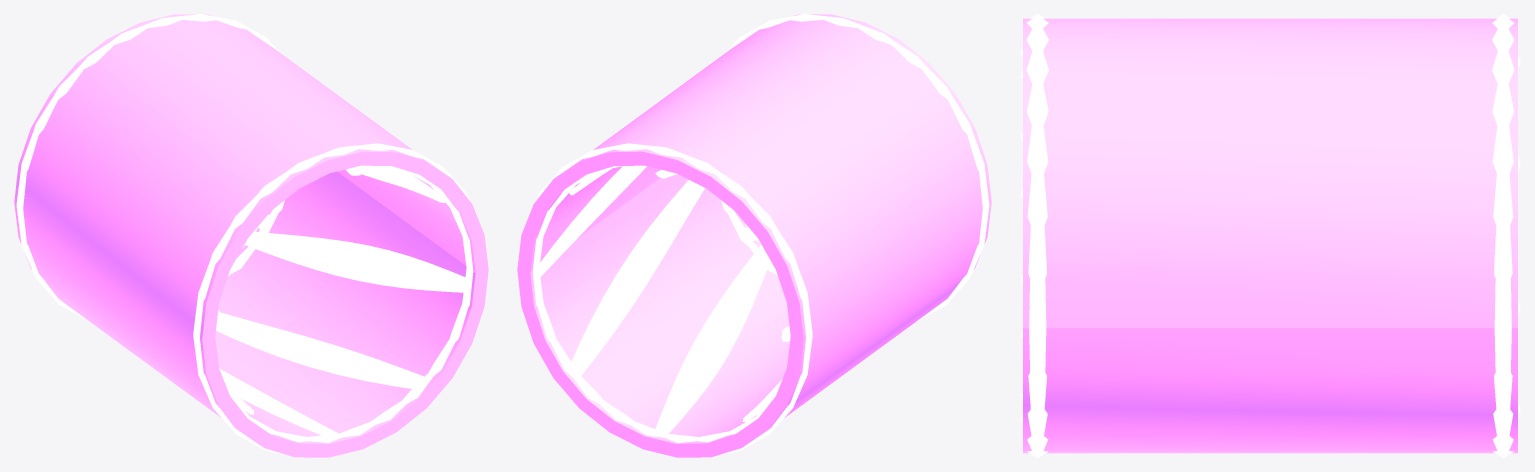
The model's file is vfx-mesh-library-warp-tunnel-segment-da13a617__21904.glb.
3 views of the same model, side by side, from view 1: azimuth 30°, elevation 25°; view 2: azimuth 150°, elevation 25°; view 3: azimuth 270°, elevation 25° (orthographic). The views are drawn at different scales.
Parts seen in each view (by area): view 1: warp-tunnel-segment; view 2: warp-tunnel-segment; view 3: warp-tunnel-segment.
Boxes of the visible parts, x1,y1,x2,y2 form: warp-tunnel-segment: (14, 14, 488, 457); warp-tunnel-segment: (517, 14, 991, 457); warp-tunnel-segment: (1020, 14, 1520, 457).
Size of the model in its own units: 0.9 by 0.9 by 1.01.
